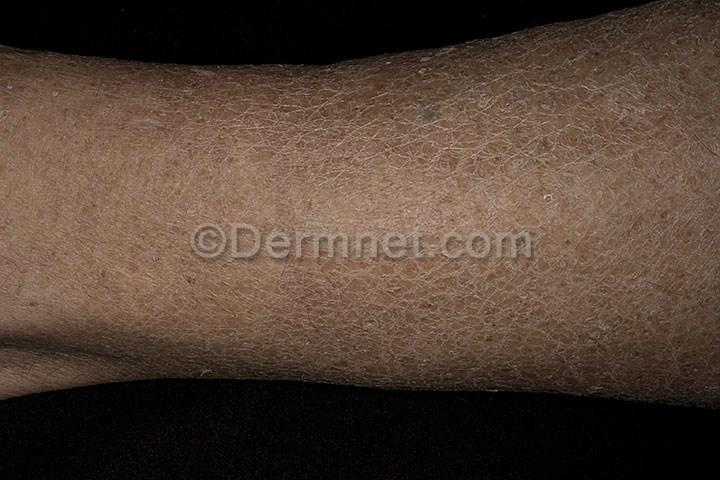xerosis 3: (0, 0, 719, 412)
